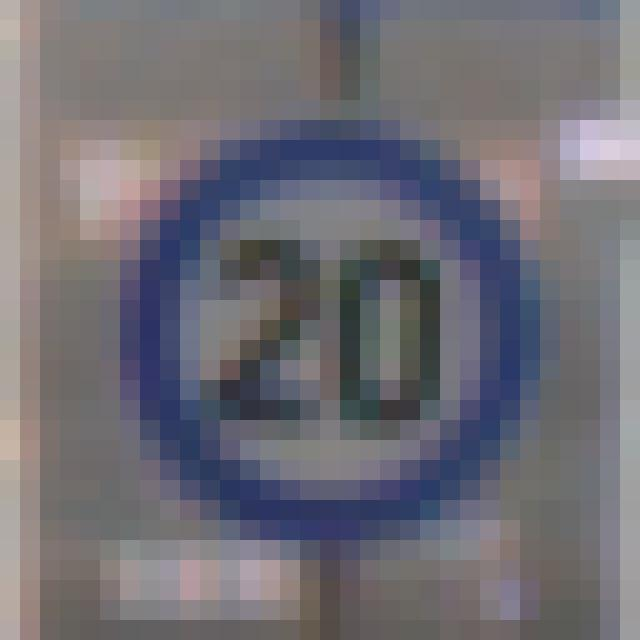SPEED LIMIT 20: (101, 133, 573, 552)
